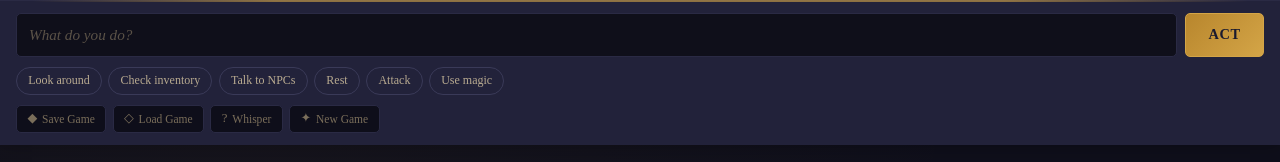
it: GameInputArea — quick actions › fills input field when a quick action chip is clicked
Click the button "Look around". click: (59, 81)
box: [16,67,102,95]
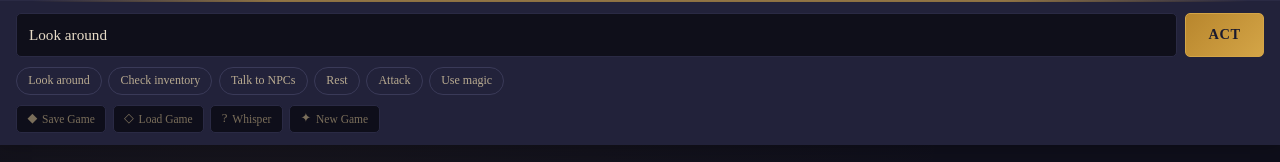
Expected: the field with placeholder "What do you do?" holds "Look around", [16,13,1177,57]
